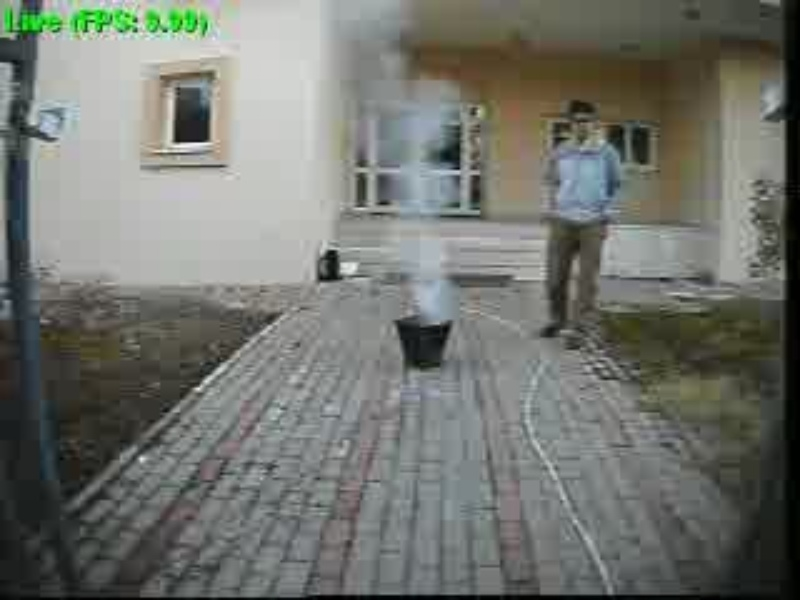smoke: (357, 54, 458, 323)
